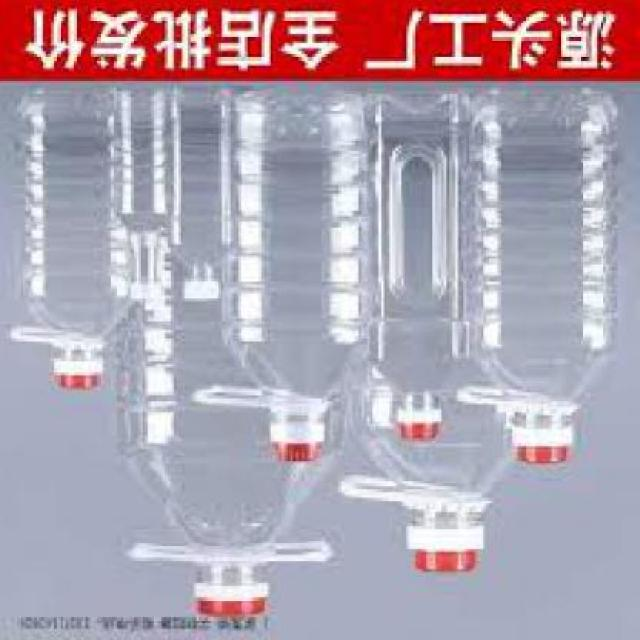PLASTIC: (119, 131, 344, 620), (194, 97, 375, 463), (461, 88, 621, 464), (347, 342, 521, 569), (17, 88, 137, 390), (370, 96, 472, 444), (174, 91, 238, 307), (119, 94, 176, 301), (409, 528, 489, 574), (199, 583, 267, 623), (515, 424, 577, 467), (270, 427, 330, 461), (54, 362, 108, 389), (401, 413, 444, 444), (184, 282, 224, 304), (137, 284, 165, 304)
